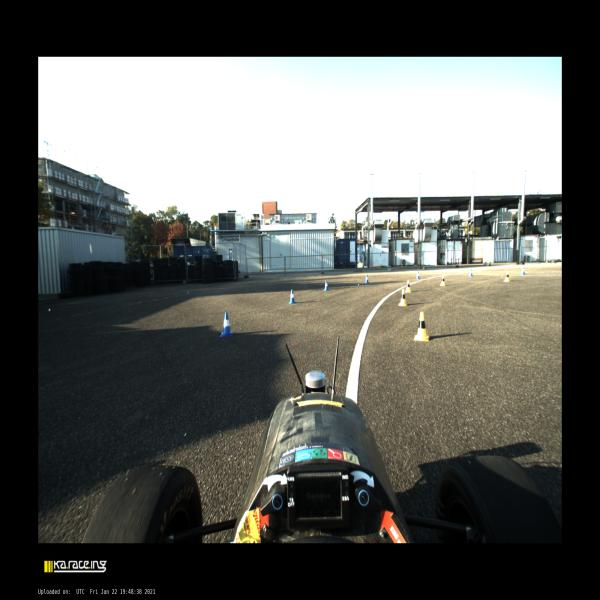blue_cone: (220, 312, 233, 337), (288, 289, 296, 304), (323, 280, 329, 291), (364, 274, 369, 284), (520, 267, 526, 275), (468, 269, 474, 276), (416, 272, 420, 280)
yellow_cone: (414, 312, 429, 341), (398, 289, 407, 306), (503, 271, 510, 282), (405, 280, 411, 292), (440, 275, 445, 286)
